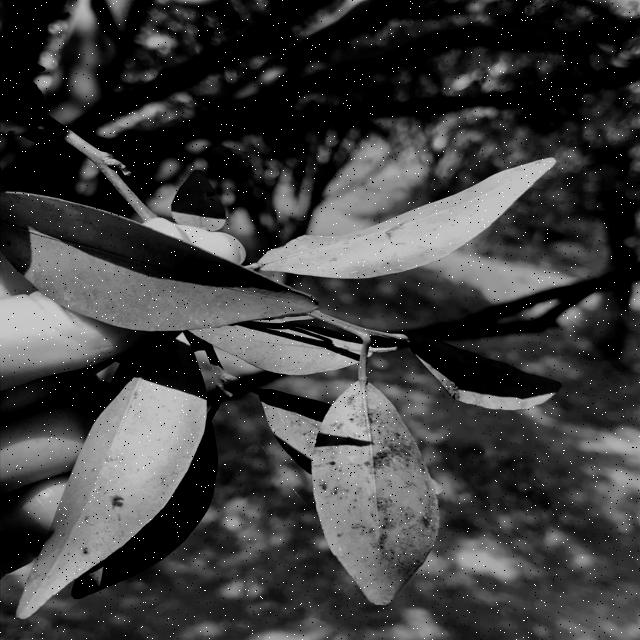canker: (318, 393, 441, 582), (35, 453, 189, 576), (290, 216, 455, 282)
